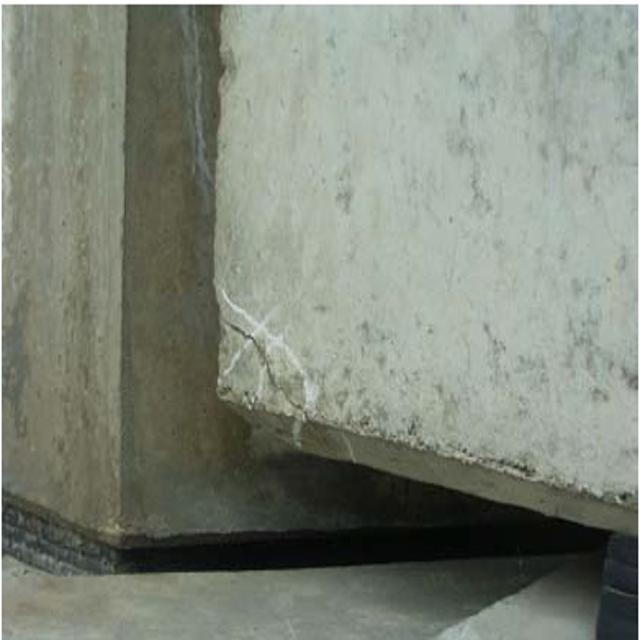crack: (213, 304, 306, 426)
